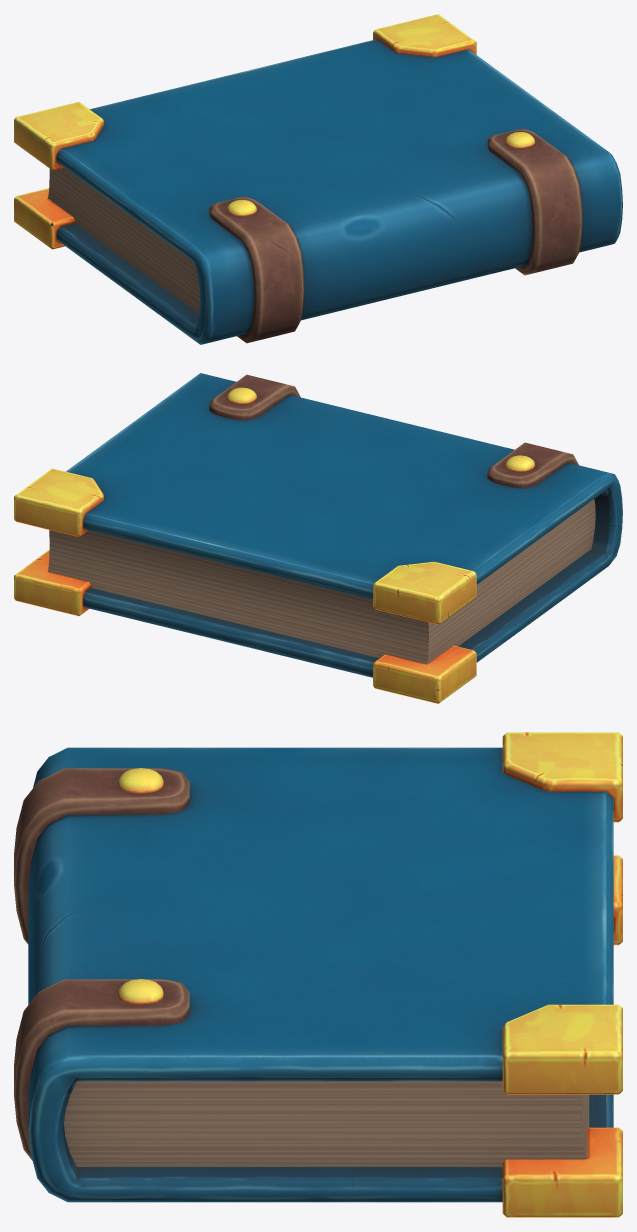
The model's file is SM_Book_Blue.fbx.
The picture shows the model from 3 angles, top to bottom: view 1: azimuth 30°, elevation 25°; view 2: azimuth 150°, elevation 25°; view 3: azimuth 270°, elevation 25°; orthographic projection. The views are drawn at different scales.
Parts seen in each view (by area): view 1: SM_Book_Blue_LOD0; view 2: SM_Book_Blue_LOD0; view 3: SM_Book_Blue_LOD0.
Part boxes in pixels (x1,y1,x2,y2): SM_Book_Blue_LOD0: (14, 14, 622, 344); SM_Book_Blue_LOD0: (14, 373, 622, 703); SM_Book_Blue_LOD0: (14, 732, 622, 1217).
Bounding box in the file's own units: 32.29 × 25.69 × 9.12.
Materials: 1 (1 with a texture image).
